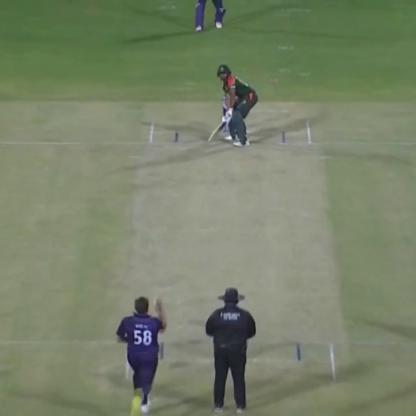bat: (202, 109, 230, 144)
pitch: (139, 132, 335, 383)
